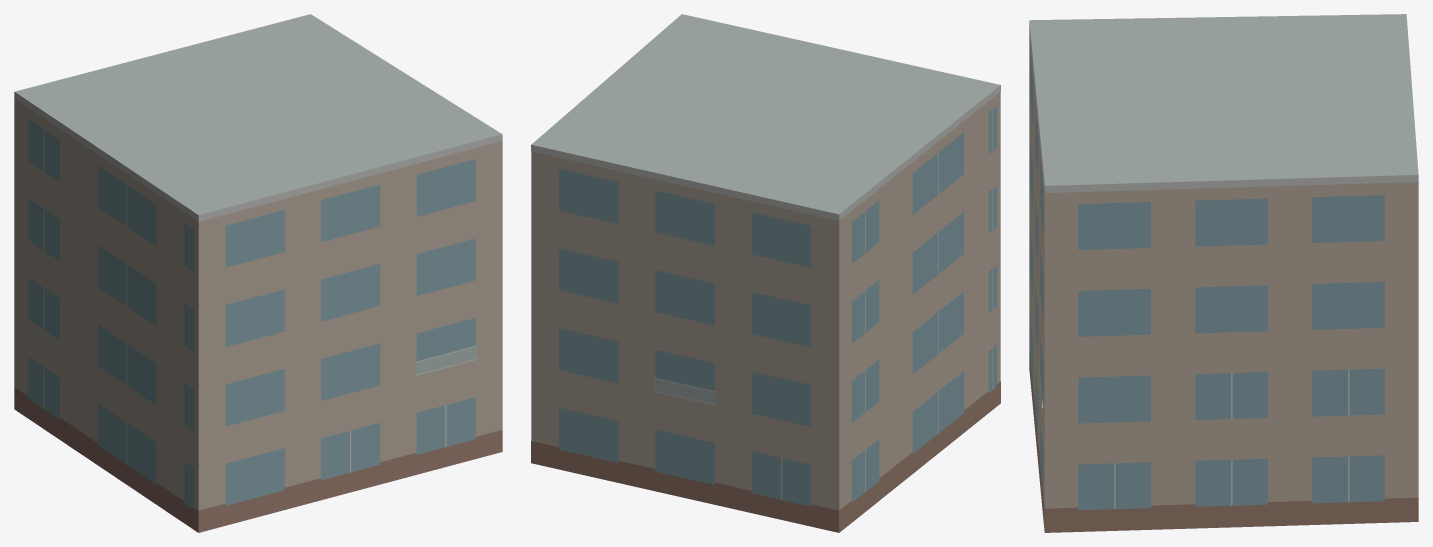
The model's file is survey-upis-32913980.glb.
3 renders of one model, left to right at view 1: azimuth 30°, elevation 25°; view 2: azimuth 150°, elevation 25°; view 3: azimuth 270°, elevation 25°, orthographic. The views are drawn at different scales.
Parts seen in each view (by area): view 1: survey-upis-32913980.tmp; view 2: survey-upis-32913980.tmp; view 3: survey-upis-32913980.tmp.
Part boxes in pixels (x1,y1,x2,y2): survey-upis-32913980.tmp: (14,14,502,532); survey-upis-32913980.tmp: (531,14,1000,532); survey-upis-32913980.tmp: (1029,14,1418,532).
Size of the model in its own units: 12.44 by 11.7 by 11.91.
